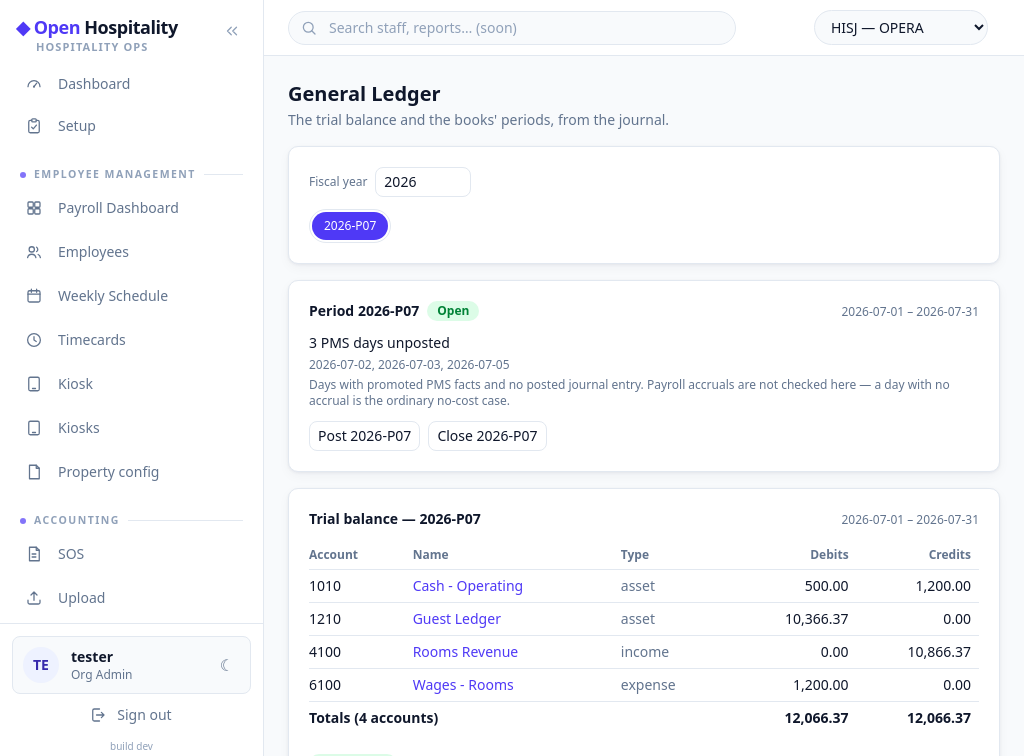
GlPage period detail › close: the confirm gets focus and names the gaps, the card shows Closed, and the periods query refetches
Check: the button "Reopen 2026-P07" is not shown
Click the button "Close 2026-P07".
click(488, 436)  # box [428, 421, 547, 451]
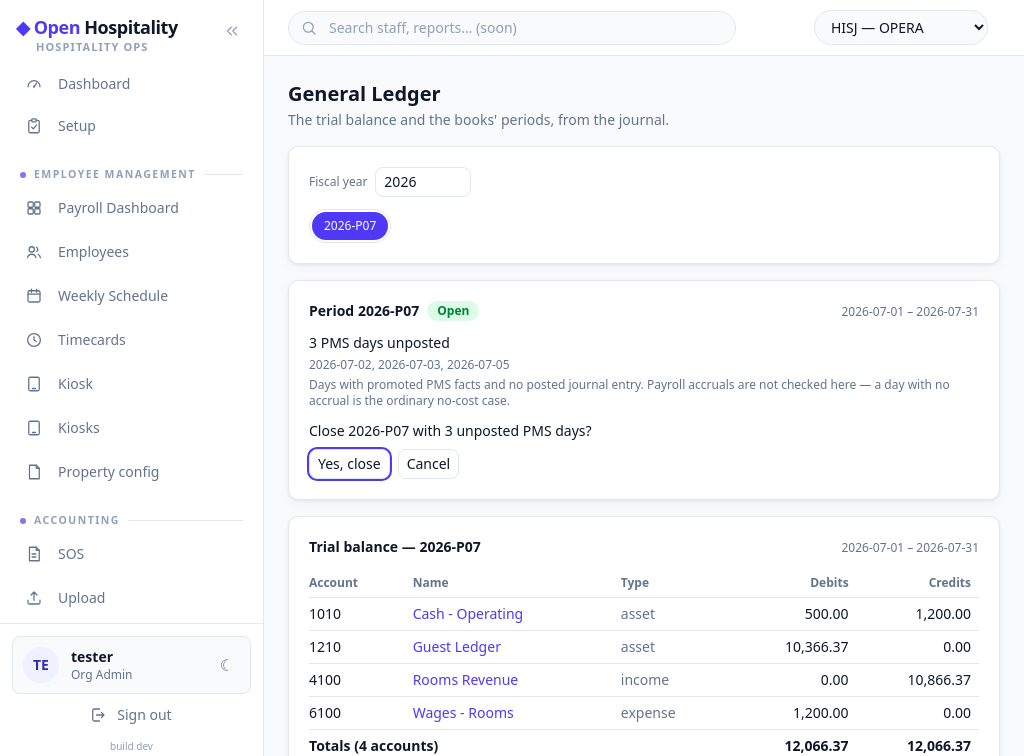
Check: the text "Close 2026-P07 with 3 unposted PMS days?" is shown, box [309, 421, 592, 440]
Click the button "Yes, close".
click(349, 464)  # box [309, 449, 390, 479]
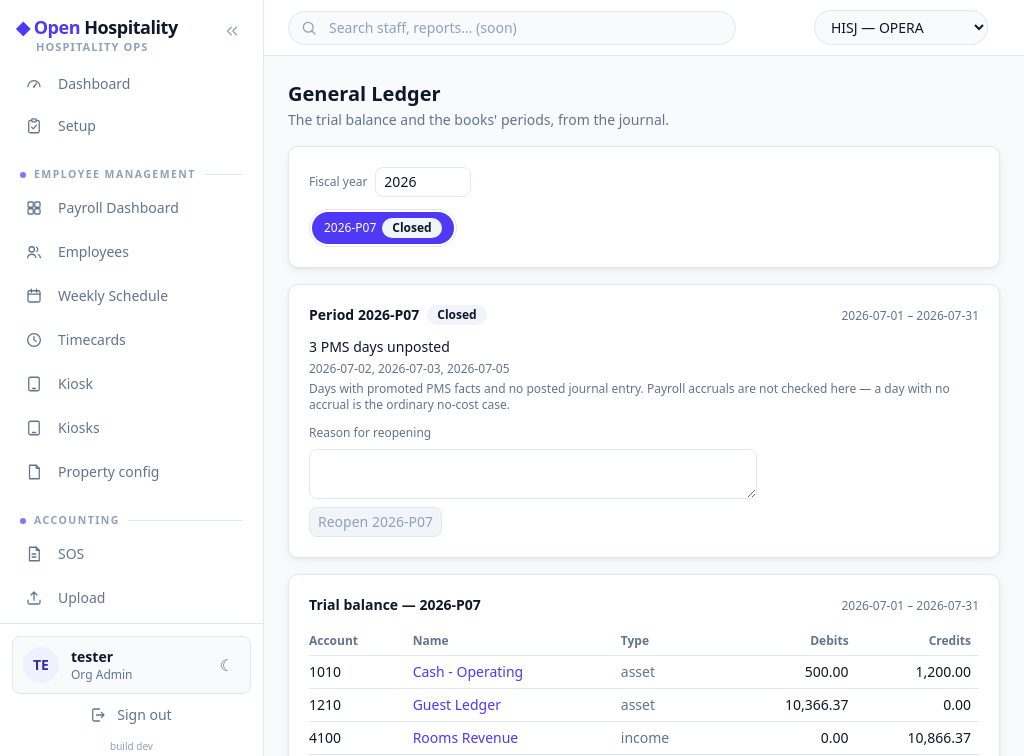
Check: the 2nd text "Closed" is shown, box [427, 305, 487, 325]
Check: the button "Yes, close" is gone
Check: the text "Close 2026-P07" is gone
